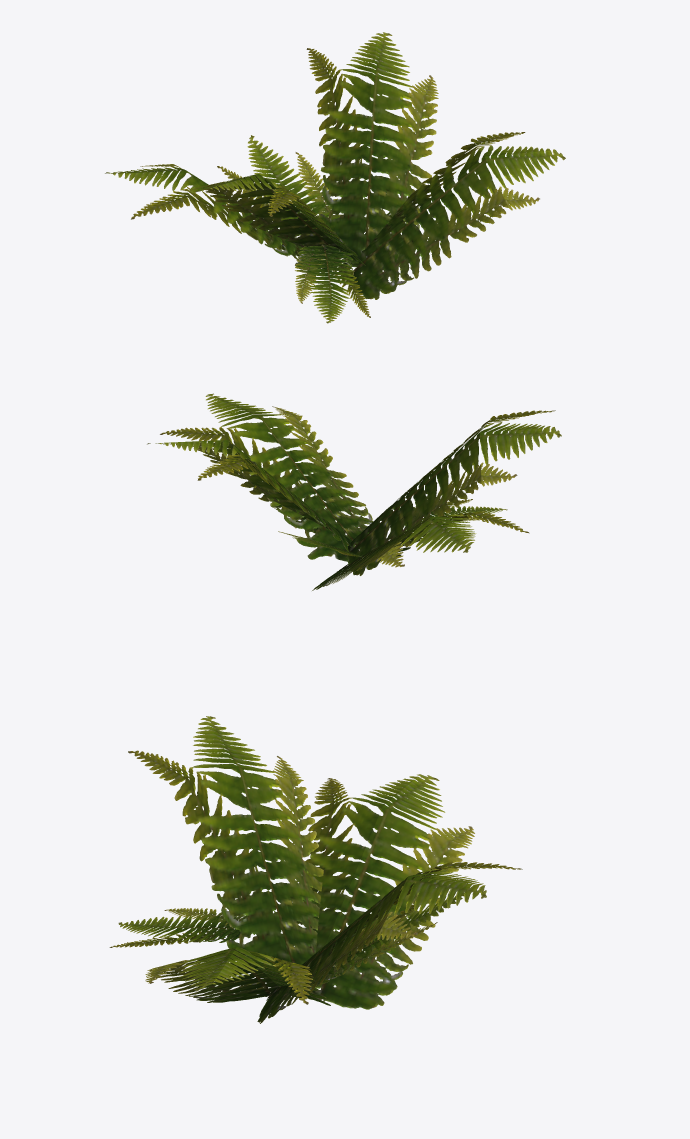
The model's file is helecho_b.glb.
The picture shows the model from 3 angles, top to bottom: view 1: azimuth 30°, elevation 25°; view 2: azimuth 150°, elevation 25°; view 3: azimuth 270°, elevation 25°; orthographic projection. The views are drawn at different scales.
Parts seen in each view (by area): view 1: Modelo; view 2: Modelo; view 3: Modelo.
Boxes of the visible parts, x1,y1,x2,y2 form: Modelo: (105,32,565,323); Modelo: (147,393,561,590); Modelo: (109,716,522,1023).
Size of the model in its own units: 2.23 by 0.6646 by 1.81.
1 material, 1 textured.
